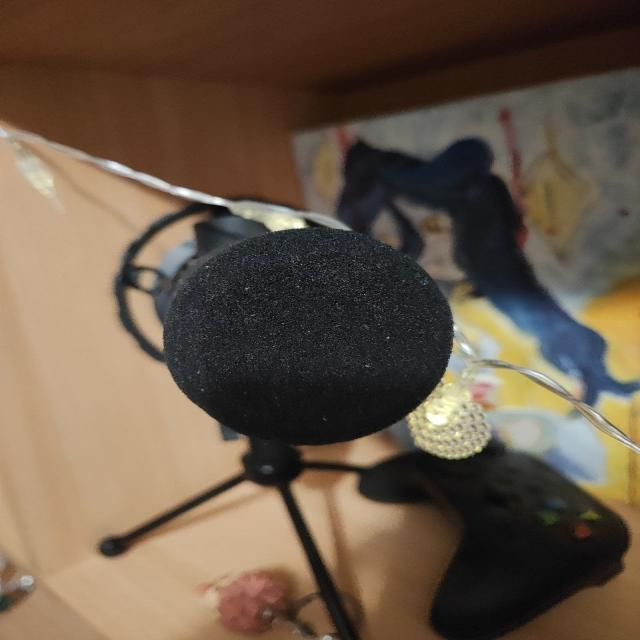Circle: (166, 225, 458, 449)
